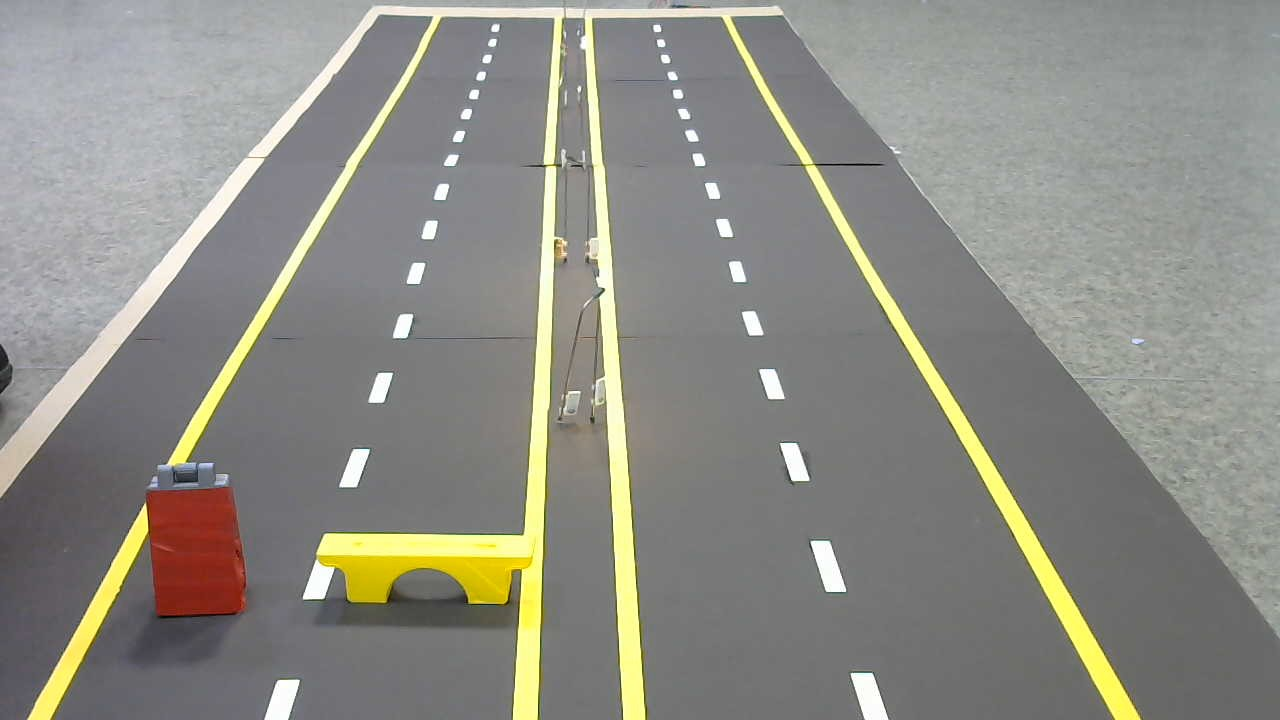accident: (139, 456, 250, 621)
emergency_situation: (308, 523, 537, 620)
